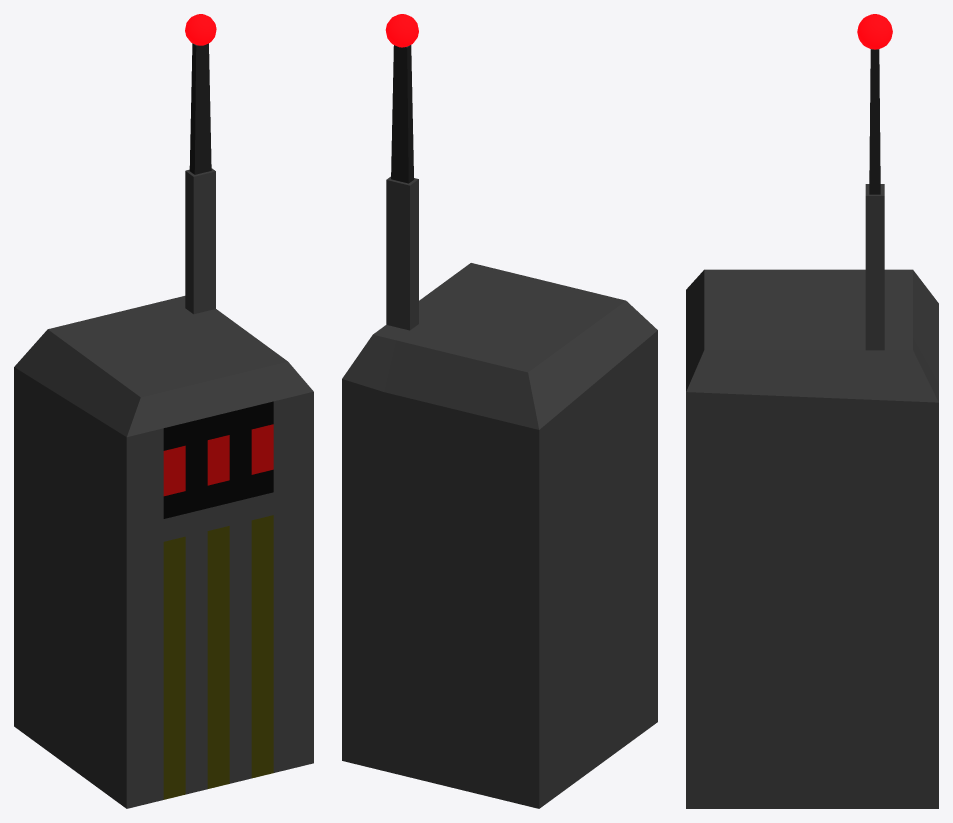
File: jammerRED.fbx
3 views of the same model, side by side, from view 1: azimuth 30°, elevation 25°; view 2: azimuth 150°, elevation 25°; view 3: azimuth 270°, elevation 25° (orthographic). The views are drawn at different scales.
Visible parts, largest first — view 1: Cube.001; view 2: Cube.001; view 3: Cube.001.
Part boxes in pixels (x1,y1,x2,y2): Cube.001: (14, 14, 313, 808); Cube.001: (342, 14, 657, 808); Cube.001: (686, 14, 938, 808).
Bounding box in the file's own units: 38.82 × 137 × 40.48.
